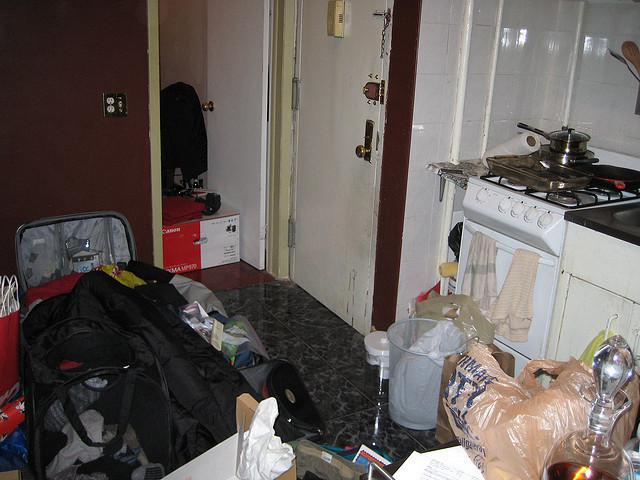Bote de Basura: (390, 315, 467, 438)
Lavaplatos: (577, 179, 639, 282)
Otro Obstaculo: (110, 259, 267, 460), (33, 291, 178, 479), (172, 265, 324, 431)
